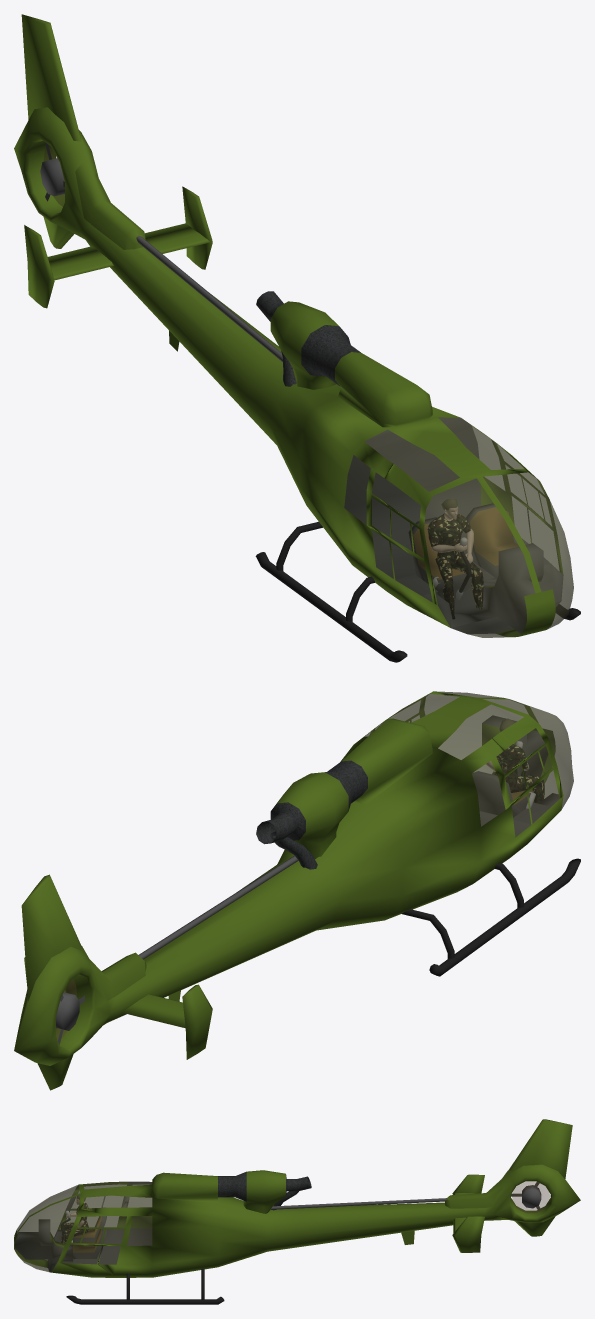
The model's file is helicopter.obj.
3 renders of one model, top to bottom at view 1: azimuth 30°, elevation 25°; view 2: azimuth 150°, elevation 25°; view 3: azimuth 270°, elevation 25°, orthographic. The views are drawn at different scales.
Parts seen in each view (by area): view 1: fuselage, glass, pilot; view 2: fuselage, glass, pilot; view 3: fuselage, glass, tail, pilot.
Boxes of the visible parts, x1,y1,x2,y2 form: fuselage: [14, 14, 580, 662]; glass: [344, 417, 573, 637]; pilot: [427, 499, 483, 619]; fuselage: [14, 691, 580, 1090]; glass: [364, 691, 573, 837]; pilot: [485, 718, 544, 803]; fuselage: [14, 1119, 580, 1304]; glass: [14, 1181, 152, 1272]; tail: [512, 1181, 549, 1212]; pilot: [61, 1195, 88, 1243].
Bounding box in the file's own units: 90.85 × 144 × 456.
